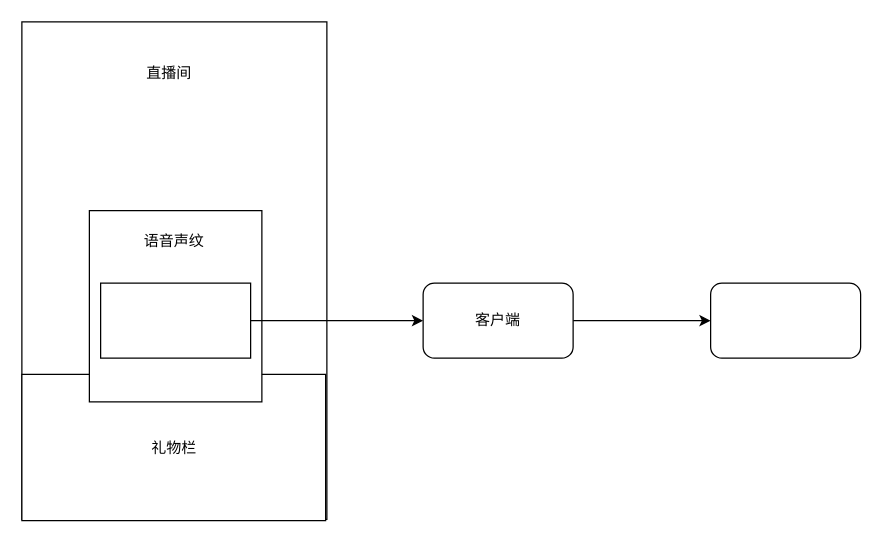
Some shapes in this 883 by 543 pixel diagram are drawn without their labels. Here are the shapes that lost their labels. From the top down, the centre of each, then its label:
[175,320]: 识别录入
[785,320]: 服务器
